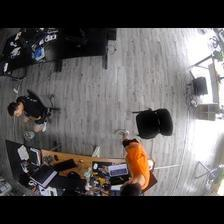normal: (112, 127, 154, 198), (7, 87, 55, 137)
